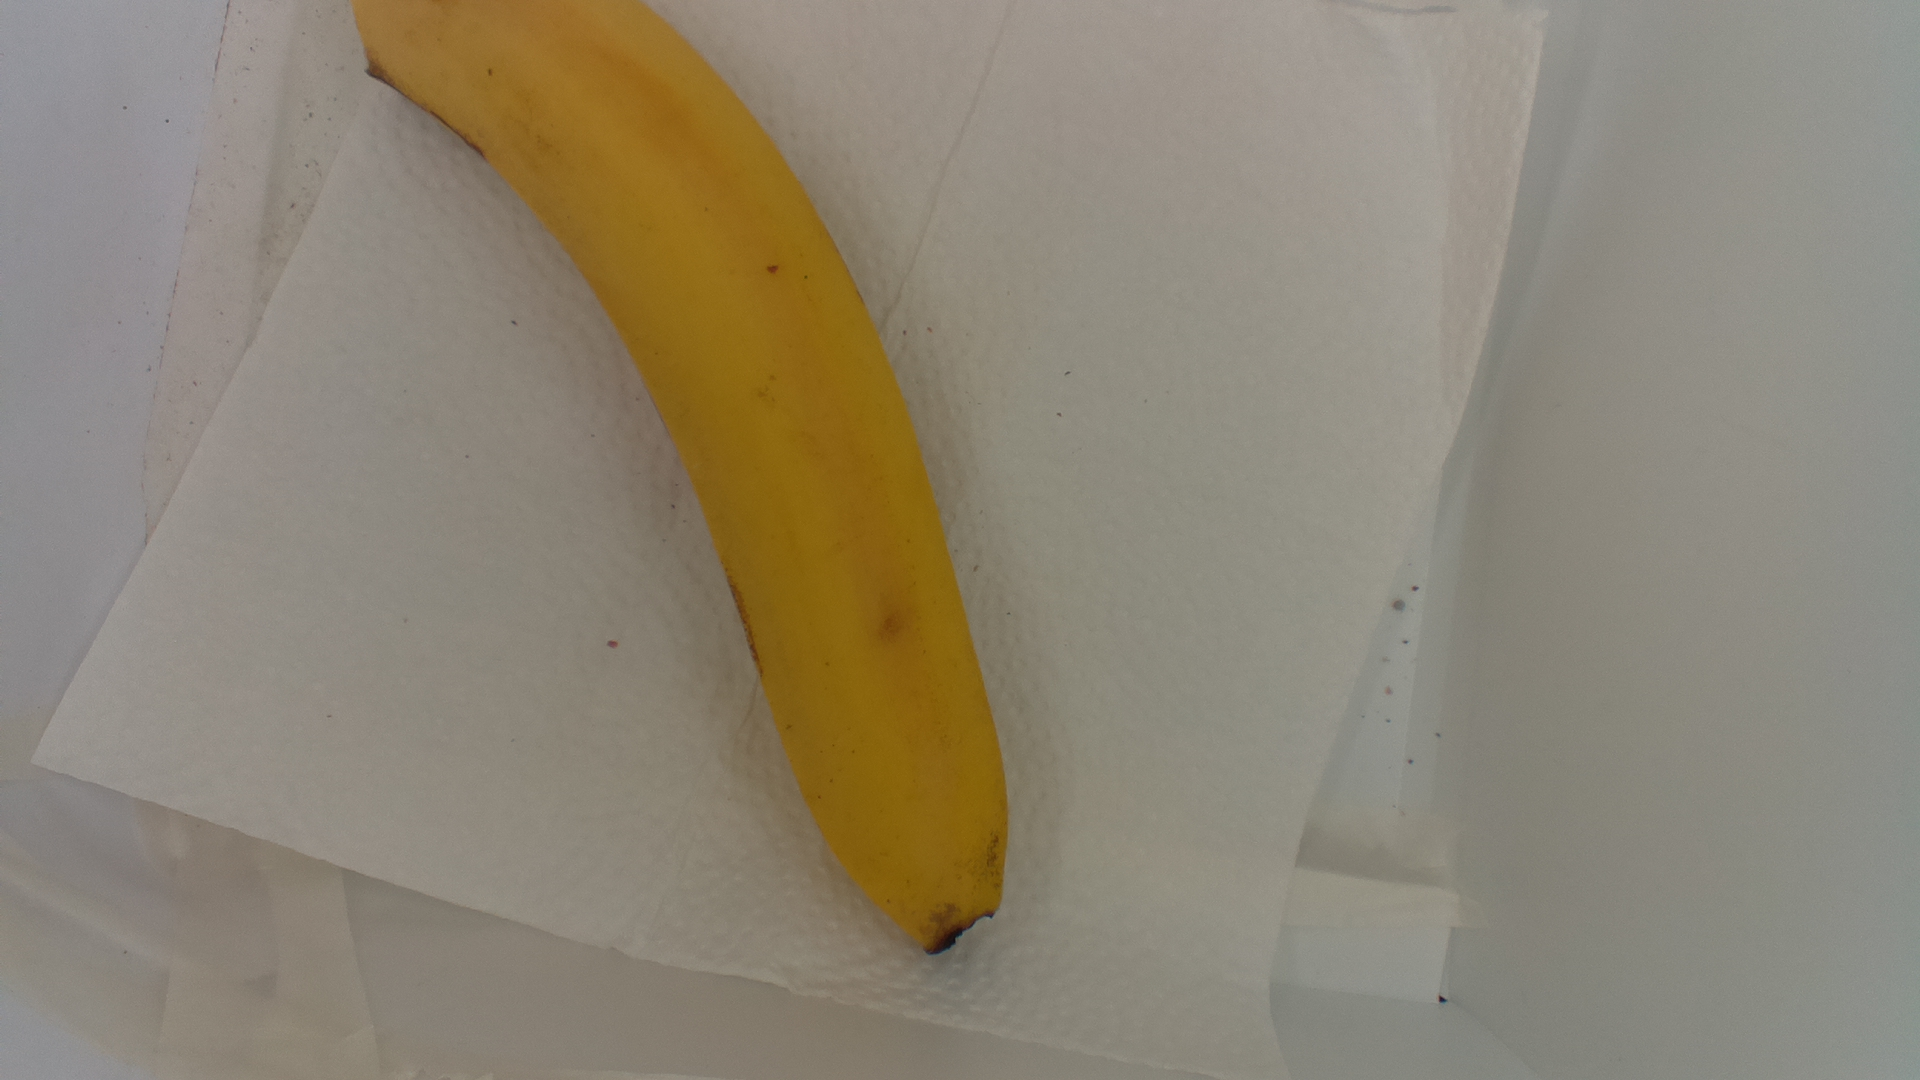fruit: (343, 1, 1015, 972)
